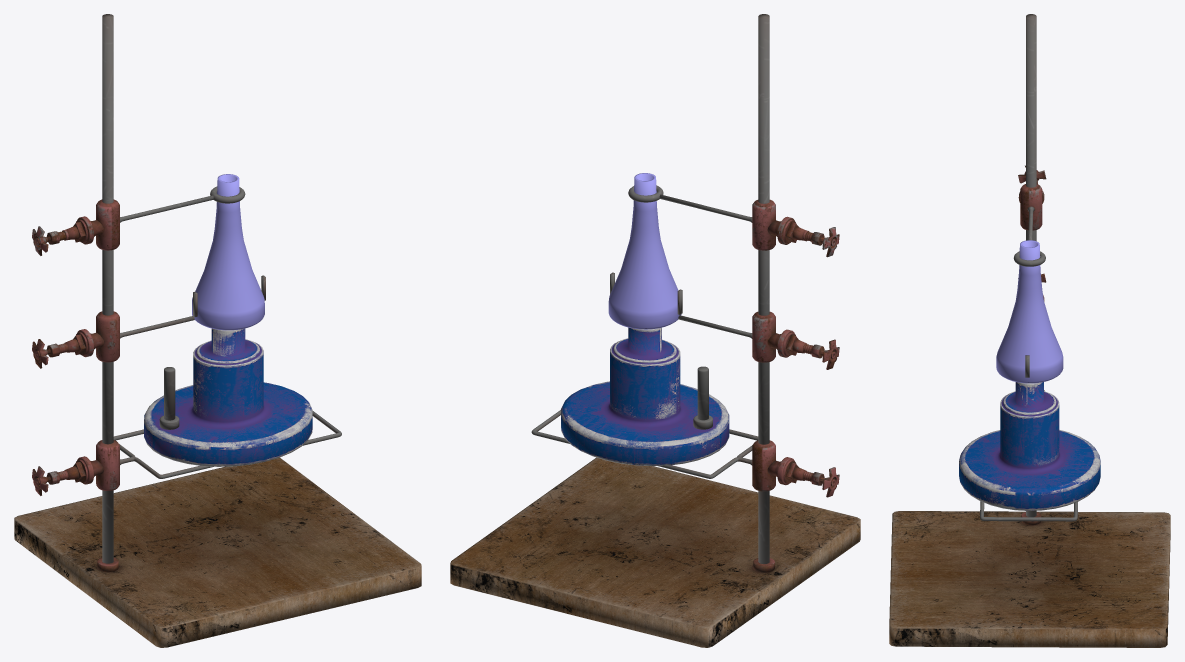
The model's file is eksp1.glb.
The picture shows the model from 3 angles, left to right: view 1: azimuth 30°, elevation 25°; view 2: azimuth 150°, elevation 25°; view 3: azimuth 270°, elevation 25°; orthographic projection. The views are drawn at different scales.
Visible parts, largest first — view 1: Torus.023; view 2: Torus.023; view 3: Torus.023.
Boxes of the visible parts, <box> form: Torus.023: <box>14,14,421,647</box>; Torus.023: <box>450,14,860,647</box>; Torus.023: <box>889,14,1170,647</box>.
Size of the model in its own units: 0.3681 by 0.6436 by 0.3132.
1 material, 1 textured.
